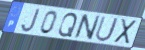0: (39, 10, 58, 36)
J: (20, 7, 41, 33)
N: (73, 14, 102, 42)
Q: (57, 12, 79, 38)
U: (93, 16, 120, 44)
X: (113, 18, 138, 45)
